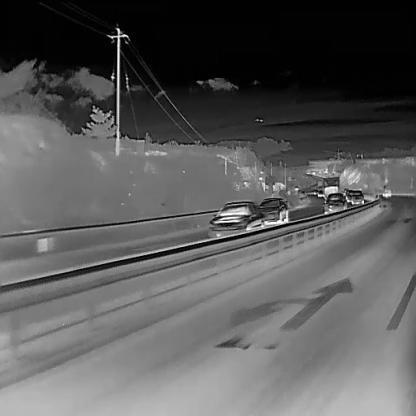car: (208, 199, 266, 241), (255, 196, 288, 227), (319, 175, 340, 204), (322, 191, 348, 214), (350, 189, 363, 206), (381, 183, 391, 197), (345, 190, 353, 202), (316, 188, 324, 197), (311, 187, 318, 195)
